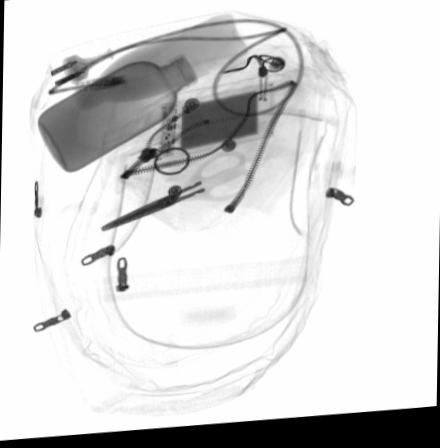Powerbank: (154, 87, 274, 162)
Scissors: (97, 156, 256, 234)
